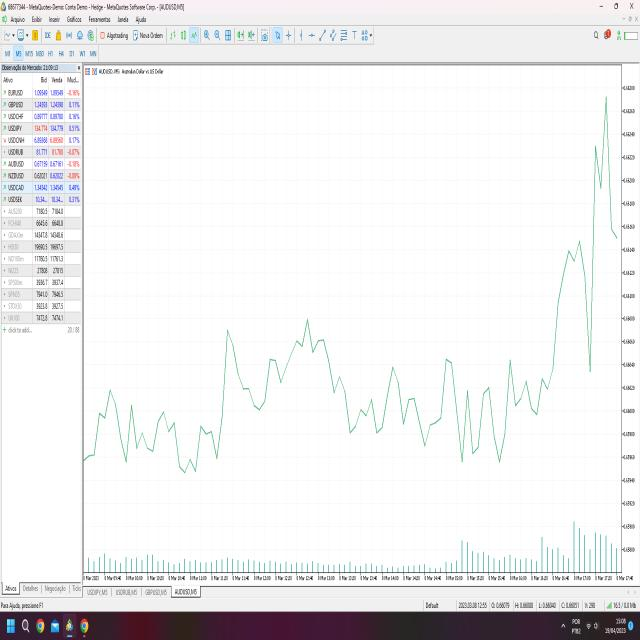fundo_duplo: (450, 346, 489, 484)
oco: (281, 300, 335, 409)
